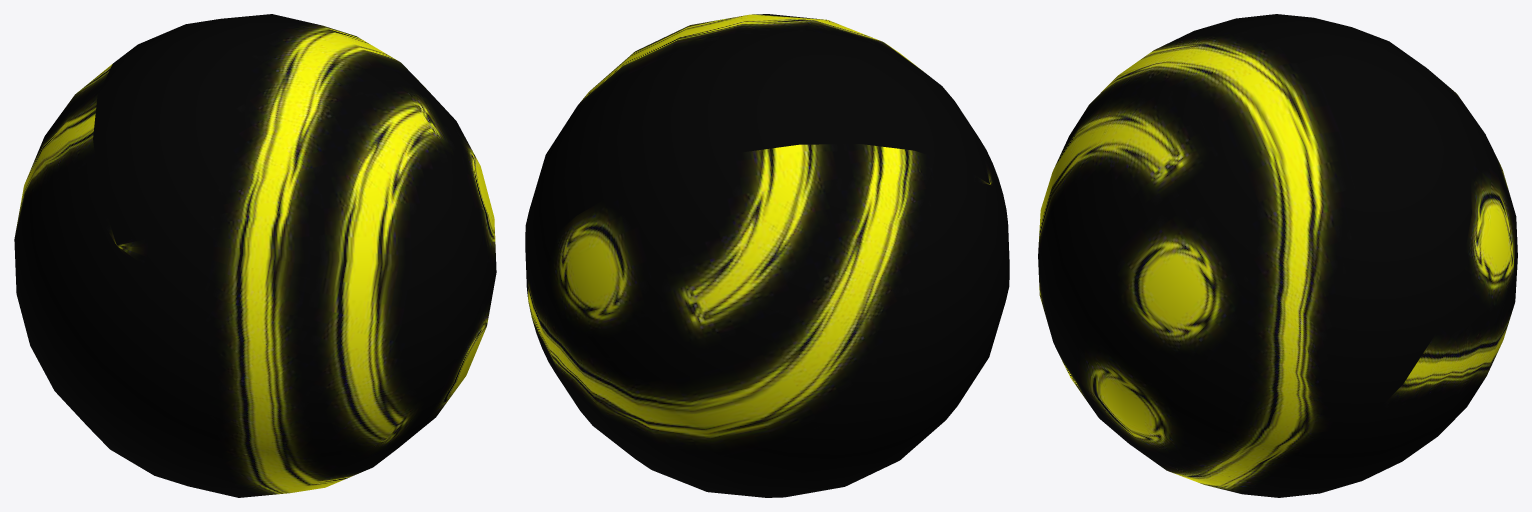
3 views of the same model, side by side, from view 1: azimuth 30°, elevation 25°; view 2: azimuth 150°, elevation 25°; view 3: azimuth 270°, elevation 25° (orthographic).
Visible parts, largest first — view 1: Sphere; view 2: Sphere; view 3: Sphere.
Boxes of the visible parts, left/top/right/bottom form: Sphere: left=14, top=14, right=496, bottom=497; Sphere: left=525, top=14, right=1009, bottom=497; Sphere: left=1038, top=14, right=1517, bottom=497.
Bounding box in the file's own units: 200 × 198 × 198.
Materials: 1 (1 with a texture image).
